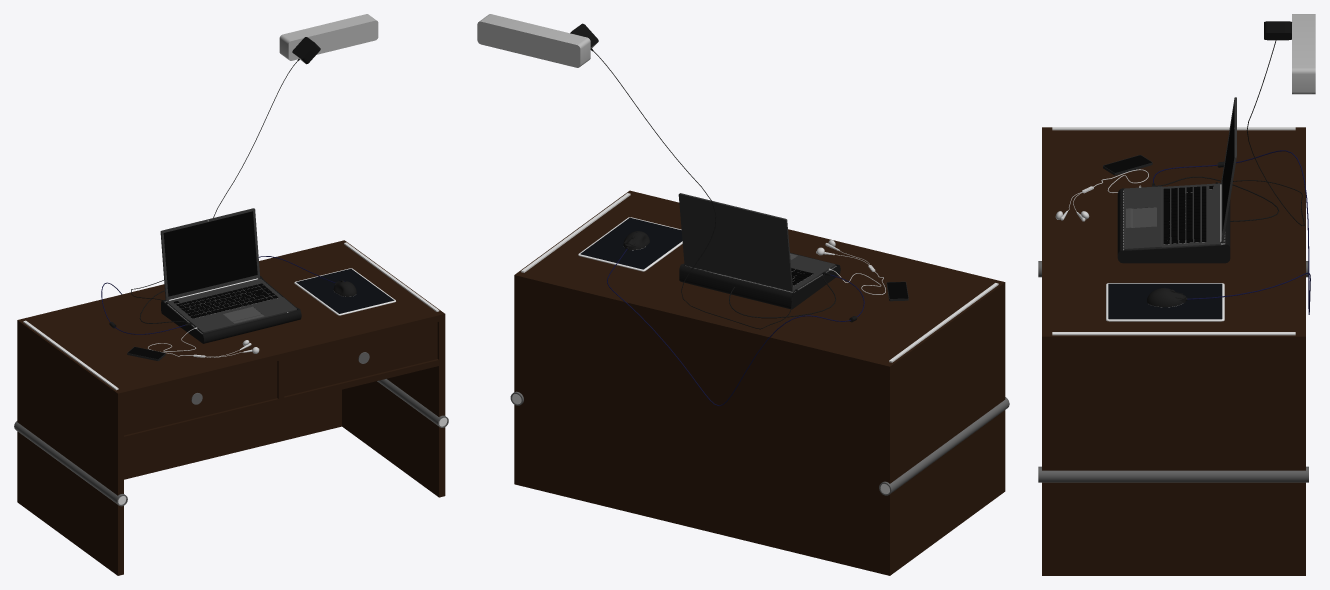
Rendered from Workspace.fbx.
3 views of the same model, side by side, from view 1: azimuth 30°, elevation 25°; view 2: azimuth 150°, elevation 25°; view 3: azimuth 270°, elevation 25° (orthographic). The views are drawn at different scales.
Visible parts, largest first — view 1: Table, Laptop, Mousepad, L, Cylinder, Cube.007, Coolingpad, Cube.008; view 2: Table, Laptop, L, Mousepad, Coolingpad, Cylinder, Cube.008; view 3: Table, Laptop, Mousepad, Cylinder, Coolingpad, Cube.007, L, Cube.008, BezierCurve, Cube.006, HP, Charger (+2 smaller).
Boxes of the visible parts, left/top/right/bottom form: Table: left=17, top=240, right=445, bottom=575; Laptop: left=160, top=208, right=296, bottom=333; Mousepad: left=294, top=268, right=395, bottom=315; L: left=279, top=14, right=378, bottom=60; Cylinder: left=14, top=379, right=448, bottom=506; Cube.007: left=173, top=283, right=278, bottom=318; Coolingpad: left=161, top=276, right=301, bottom=343; Cube.008: left=23, top=242, right=439, bottom=390; Table: left=514, top=190, right=1005, bottom=575; Laptop: left=678, top=193, right=835, bottom=291; L: left=477, top=14, right=590, bottom=67; Mousepad: left=578, top=217, right=682, bottom=271; Coolingpad: left=679, top=252, right=840, bottom=309; Cylinder: left=510, top=391, right=1009, bottom=495; Cube.008: left=521, top=193, right=998, bottom=362; Table: left=1042, top=127, right=1305, bottom=575; Laptop: left=1124, top=97, right=1236, bottom=250; Mousepad: left=1106, top=283, right=1224, bottom=321; Cylinder: left=1038, top=261, right=1308, bottom=482; Coolingpad: left=1117, top=183, right=1230, bottom=263; Cube.007: left=1163, top=185, right=1213, bottom=244; L: left=1292, top=14, right=1315, bottom=94; Cube.008: left=1052, top=127, right=1295, bottom=335; BezierCurve: left=1153, top=150, right=1310, bottom=314; Cube.006: left=1126, top=207, right=1156, bottom=228; HP: left=1103, top=155, right=1152, bottom=175; Charger: left=1264, top=21, right=1291, bottom=40.
Bounding box in the file's own units: 411 × 440 × 210.
